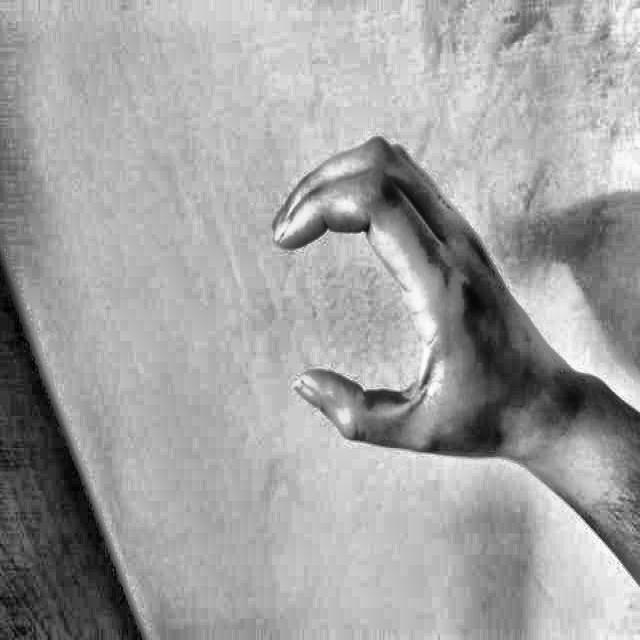A: (253, 91, 521, 498)
